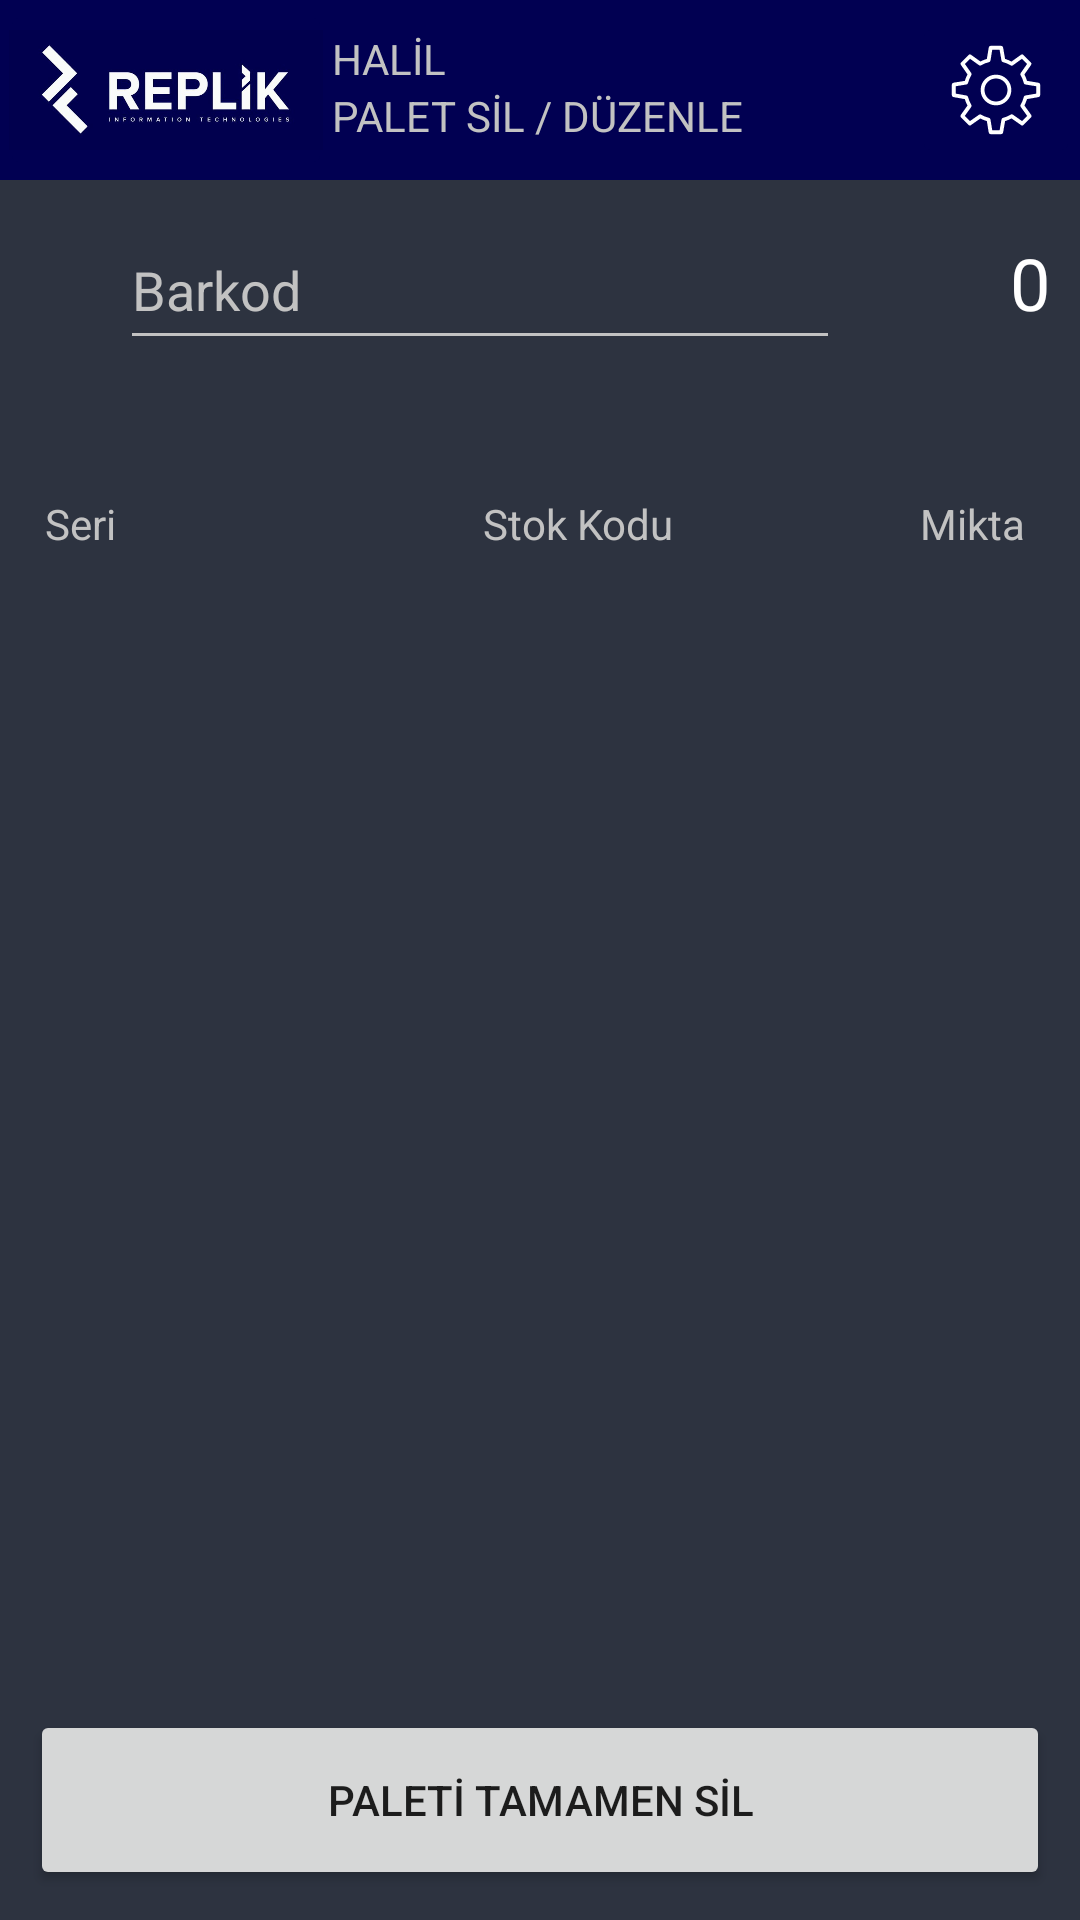

Locate icon controls on the screen. Image size 1080*1920, boxes as (x1, y1, x2, y2).
settings: (951, 45, 1041, 135)
